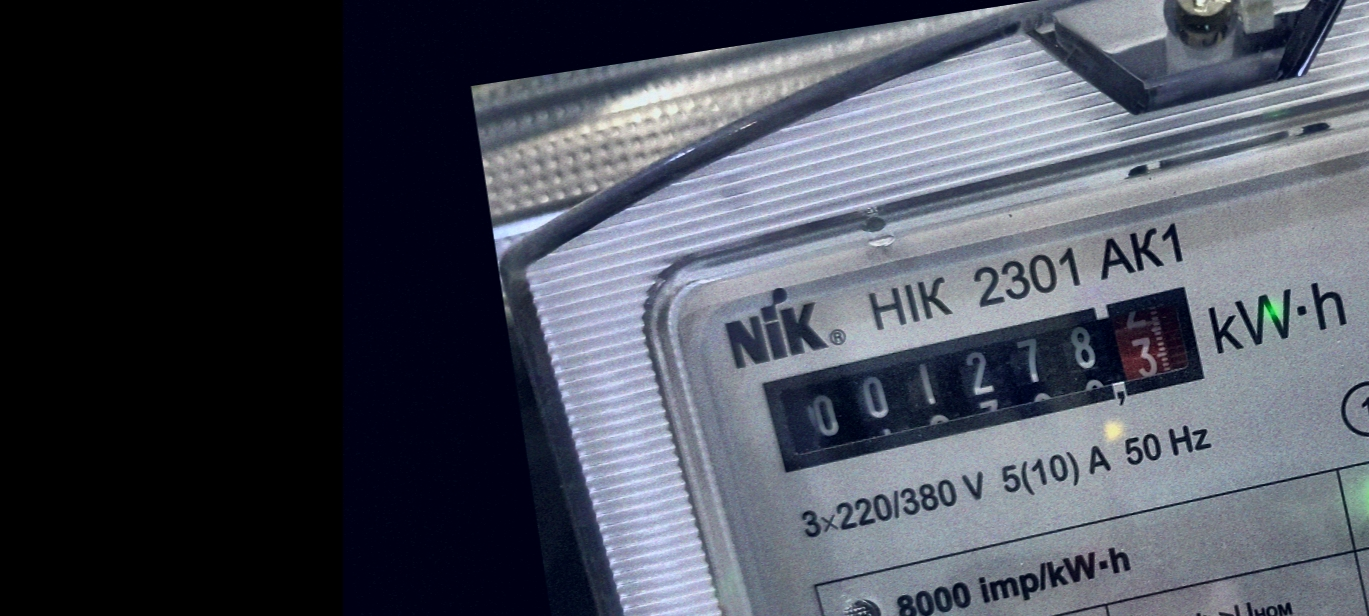0: (809, 388, 843, 439), (859, 372, 891, 422)
1: (915, 358, 940, 407)
2: (963, 348, 996, 398), (1122, 307, 1149, 330)
3: (1129, 333, 1161, 380)
7: (1015, 336, 1043, 385)
8: (1068, 323, 1099, 371)
screen: (742, 271, 1228, 488)
